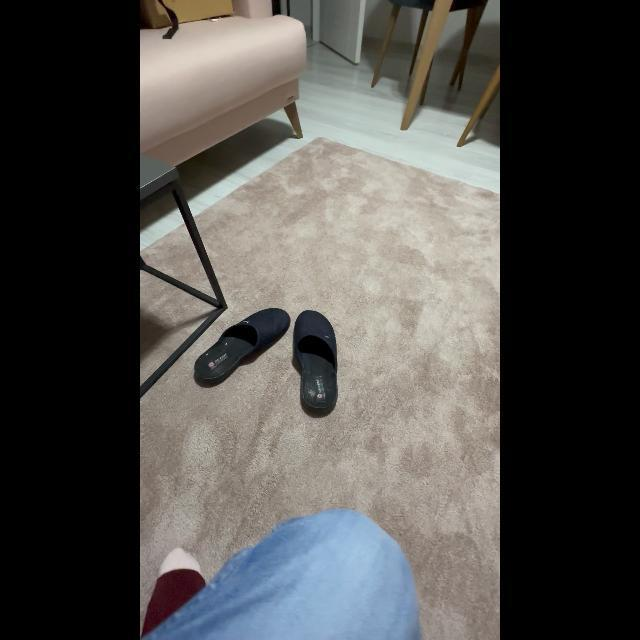slipper: (186, 298, 294, 396), (292, 304, 344, 428)
